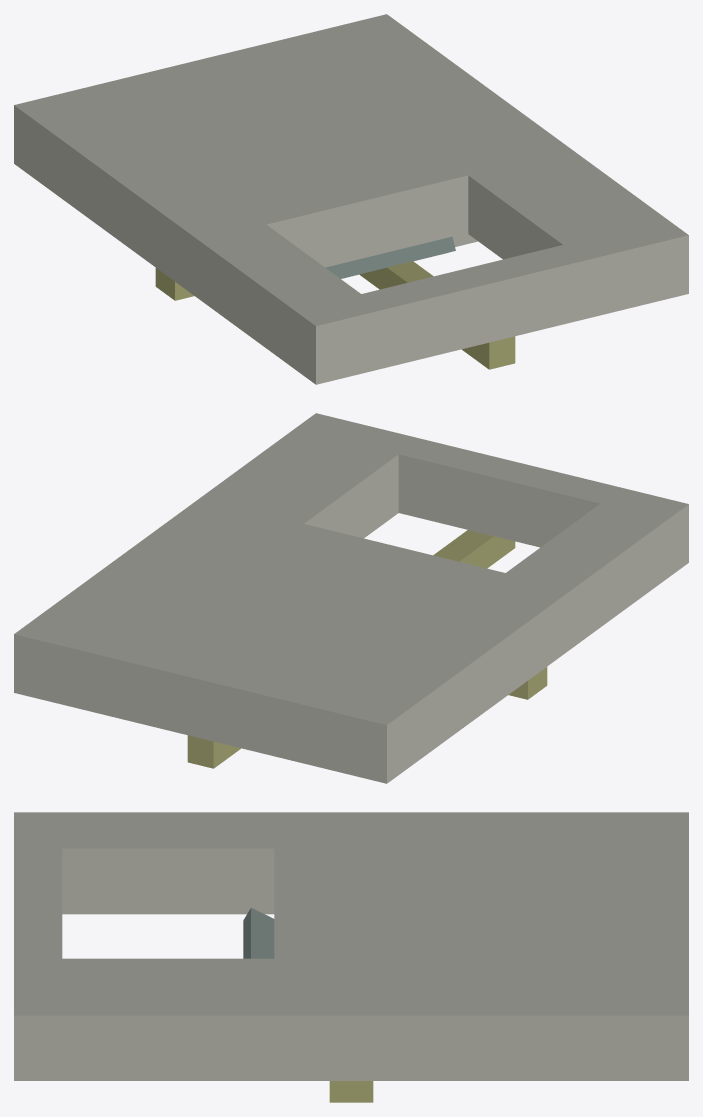
Rendered from SM_AndenLosa_Central_v2_LosaRota_LOD1.fbx.
3 views of the same model, one above another, from view 1: azimuth 30°, elevation 25°; view 2: azimuth 150°, elevation 25°; view 3: azimuth 270°, elevation 25° (orthographic). The views are drawn at different scales.
Visible parts, largest first — view 1: Losa; view 2: Losa; view 3: Losa.
Boxes of the visible parts, <box> form: Losa: <box>14,14,688,384</box>; Losa: <box>14,413,688,783</box>; Losa: <box>14,812,688,1102</box>.
Size of what is drawn, in the model's own units: 9.98 by 2.2 by 14.
